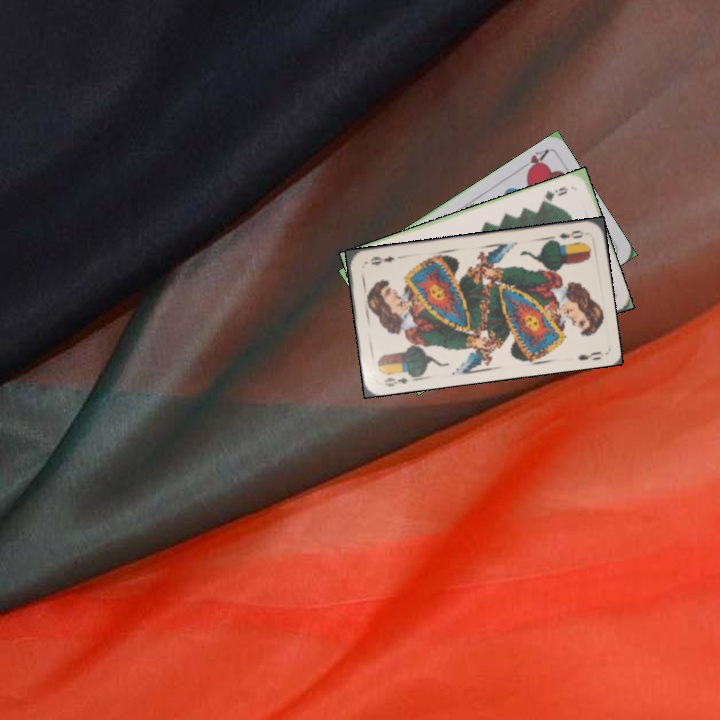EO: (380, 367, 418, 389), (555, 226, 586, 241)
G9: (537, 183, 571, 206)
HA: (515, 145, 551, 177)
